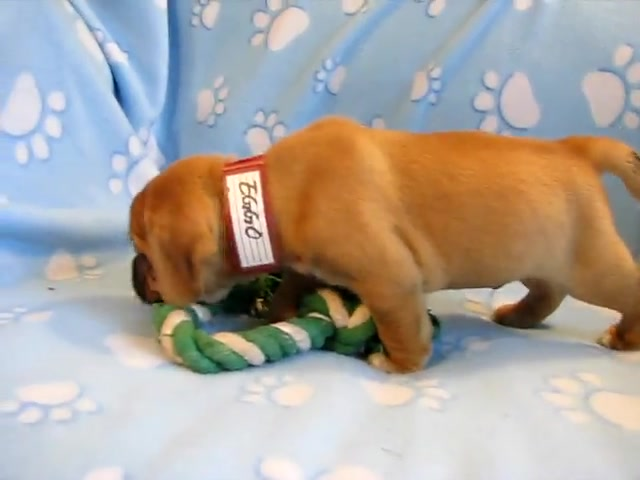dog: (126, 114, 640, 376)
